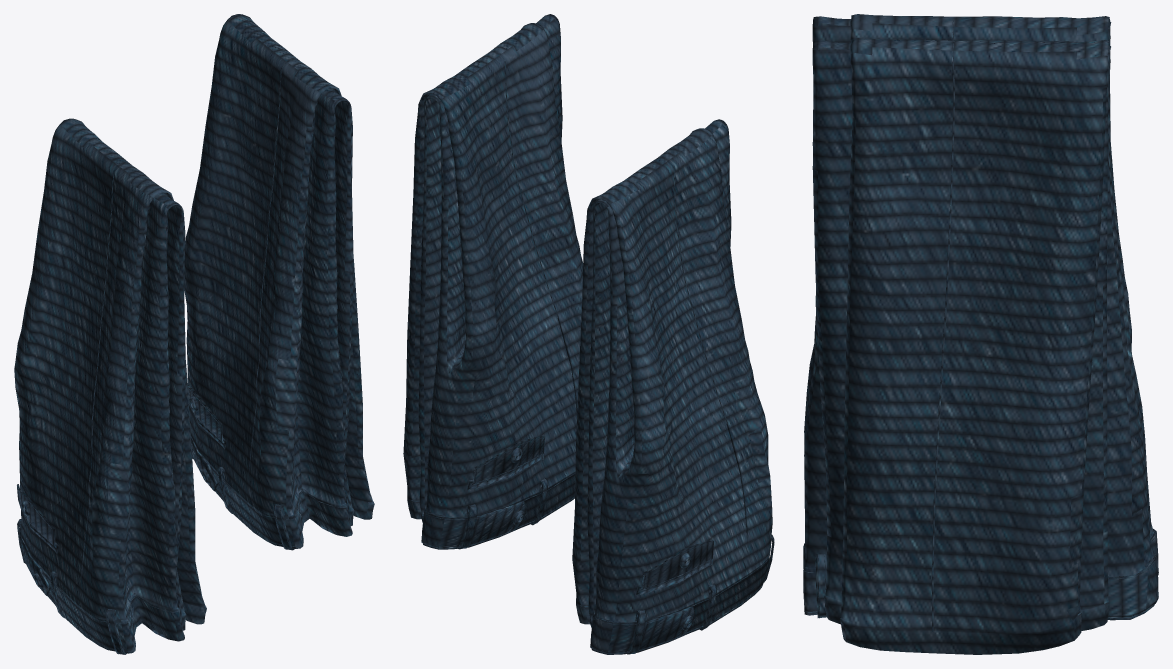
Rendered from yifu10_kuzi_03.fbx.
The picture shows the model from 3 angles, left to right: view 1: azimuth 30°, elevation 25°; view 2: azimuth 150°, elevation 25°; view 3: azimuth 270°, elevation 25°; orthographic projection. The views are drawn at different scales.
Visible parts, largest first — view 1: yifu10_kuzi_03; view 2: yifu10_kuzi_03; view 3: yifu10_kuzi_03.
Part boxes in pixels (x1=…): yifu10_kuzi_03: x1=14, y1=14, x2=374, y2=654; yifu10_kuzi_03: x1=403, y1=14, x2=774, y2=654; yifu10_kuzi_03: x1=803, y1=14, x2=1158, y2=654.
Bounding box in the file's own units: 39.5 × 67.21 × 32.13.
